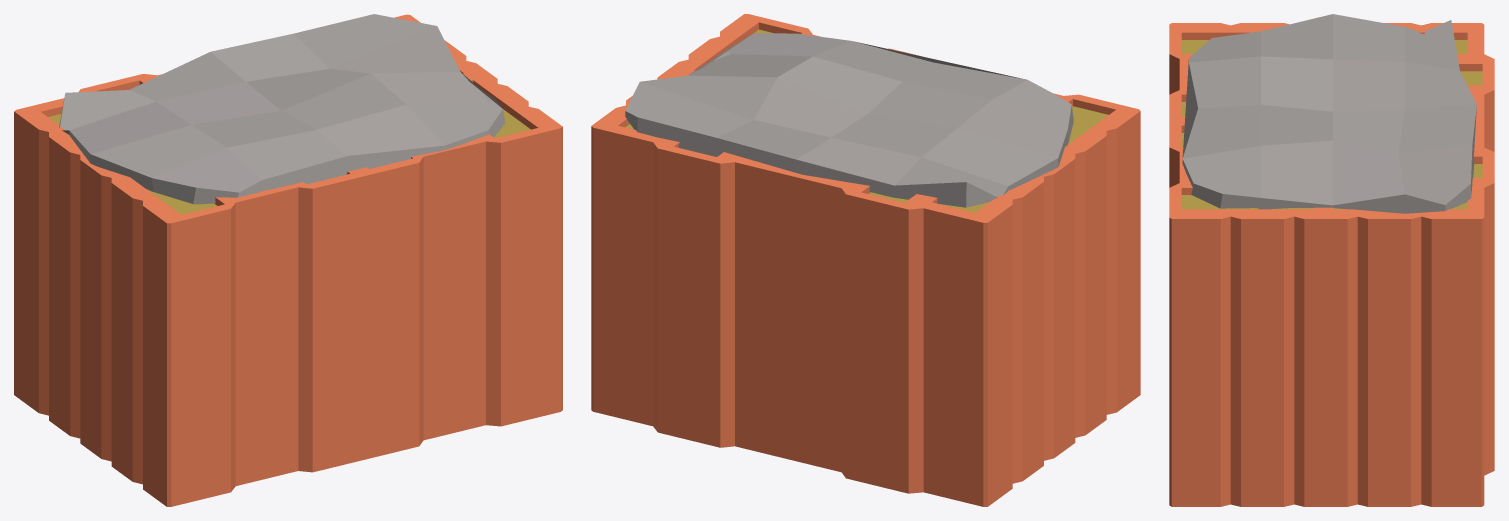
The model's file is mörtel auf brick (weniger rillen).fbx.
3 views of the same model, side by side, from view 1: azimuth 30°, elevation 25°; view 2: azimuth 150°, elevation 25°; view 3: azimuth 270°, elevation 25° (orthographic).
Parts seen in each view (by area): view 1: Außenziegel template.001, mörtel; view 2: Außenziegel template.001, mörtel; view 3: Außenziegel template.001, mörtel.
Part boxes in pixels (left/top/right/bottom): Außenziegel template.001: left=14, top=14, right=562, bottom=506; mörtel: left=59, top=14, right=505, bottom=204; Außenziegel template.001: left=591, top=14, right=1140, bottom=506; mörtel: left=625, top=33, right=1073, bottom=207; Außenziegel template.001: left=1169, top=23, right=1494, bottom=506; mörtel: left=1182, top=14, right=1476, bottom=213.
Size of the model in its own units: 36.53 by 26.98 by 25.59.
